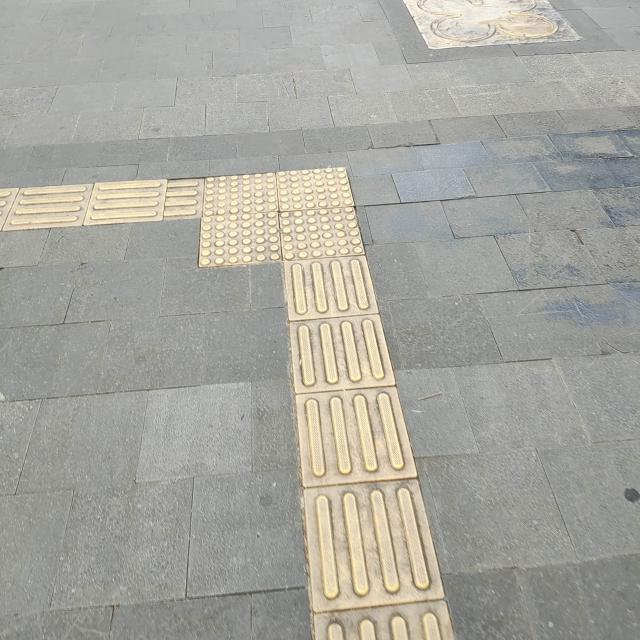kiri: (39, 122, 435, 324)
